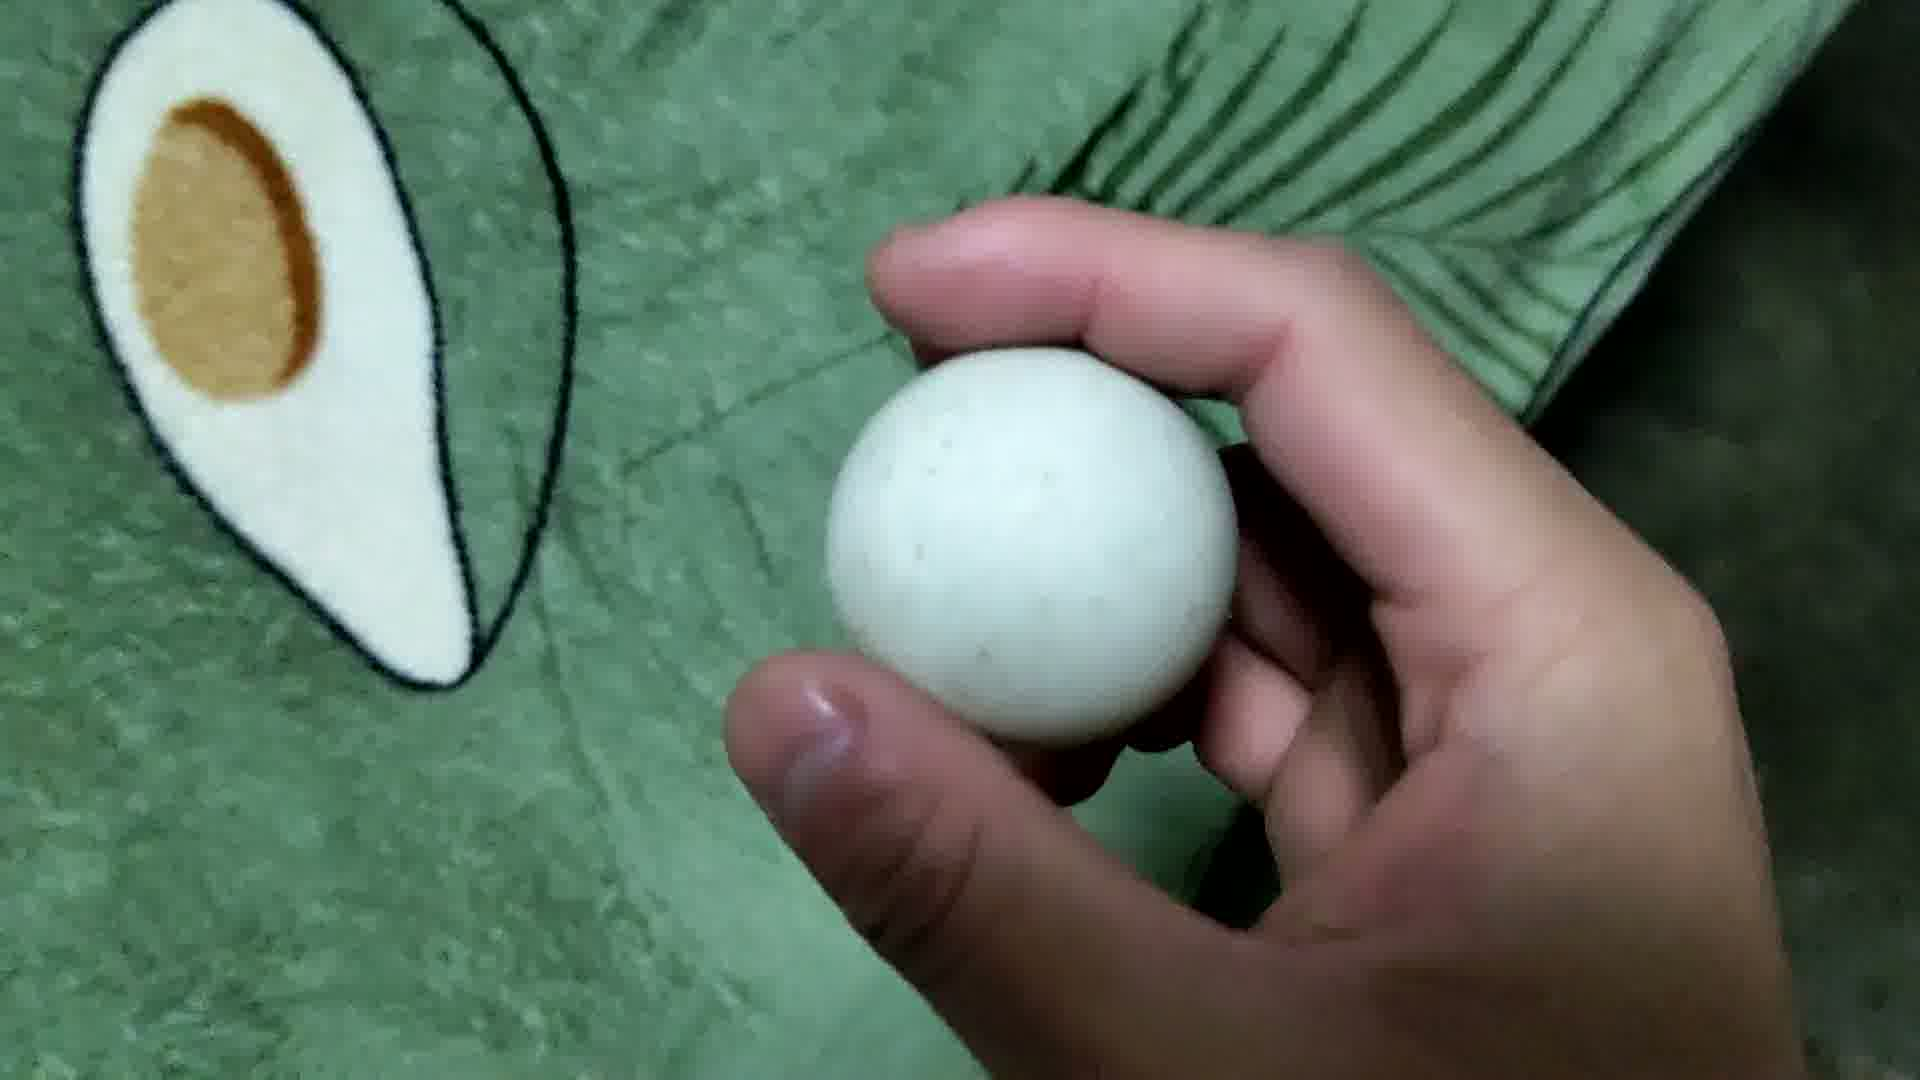Ball: (829, 342, 1238, 740)
